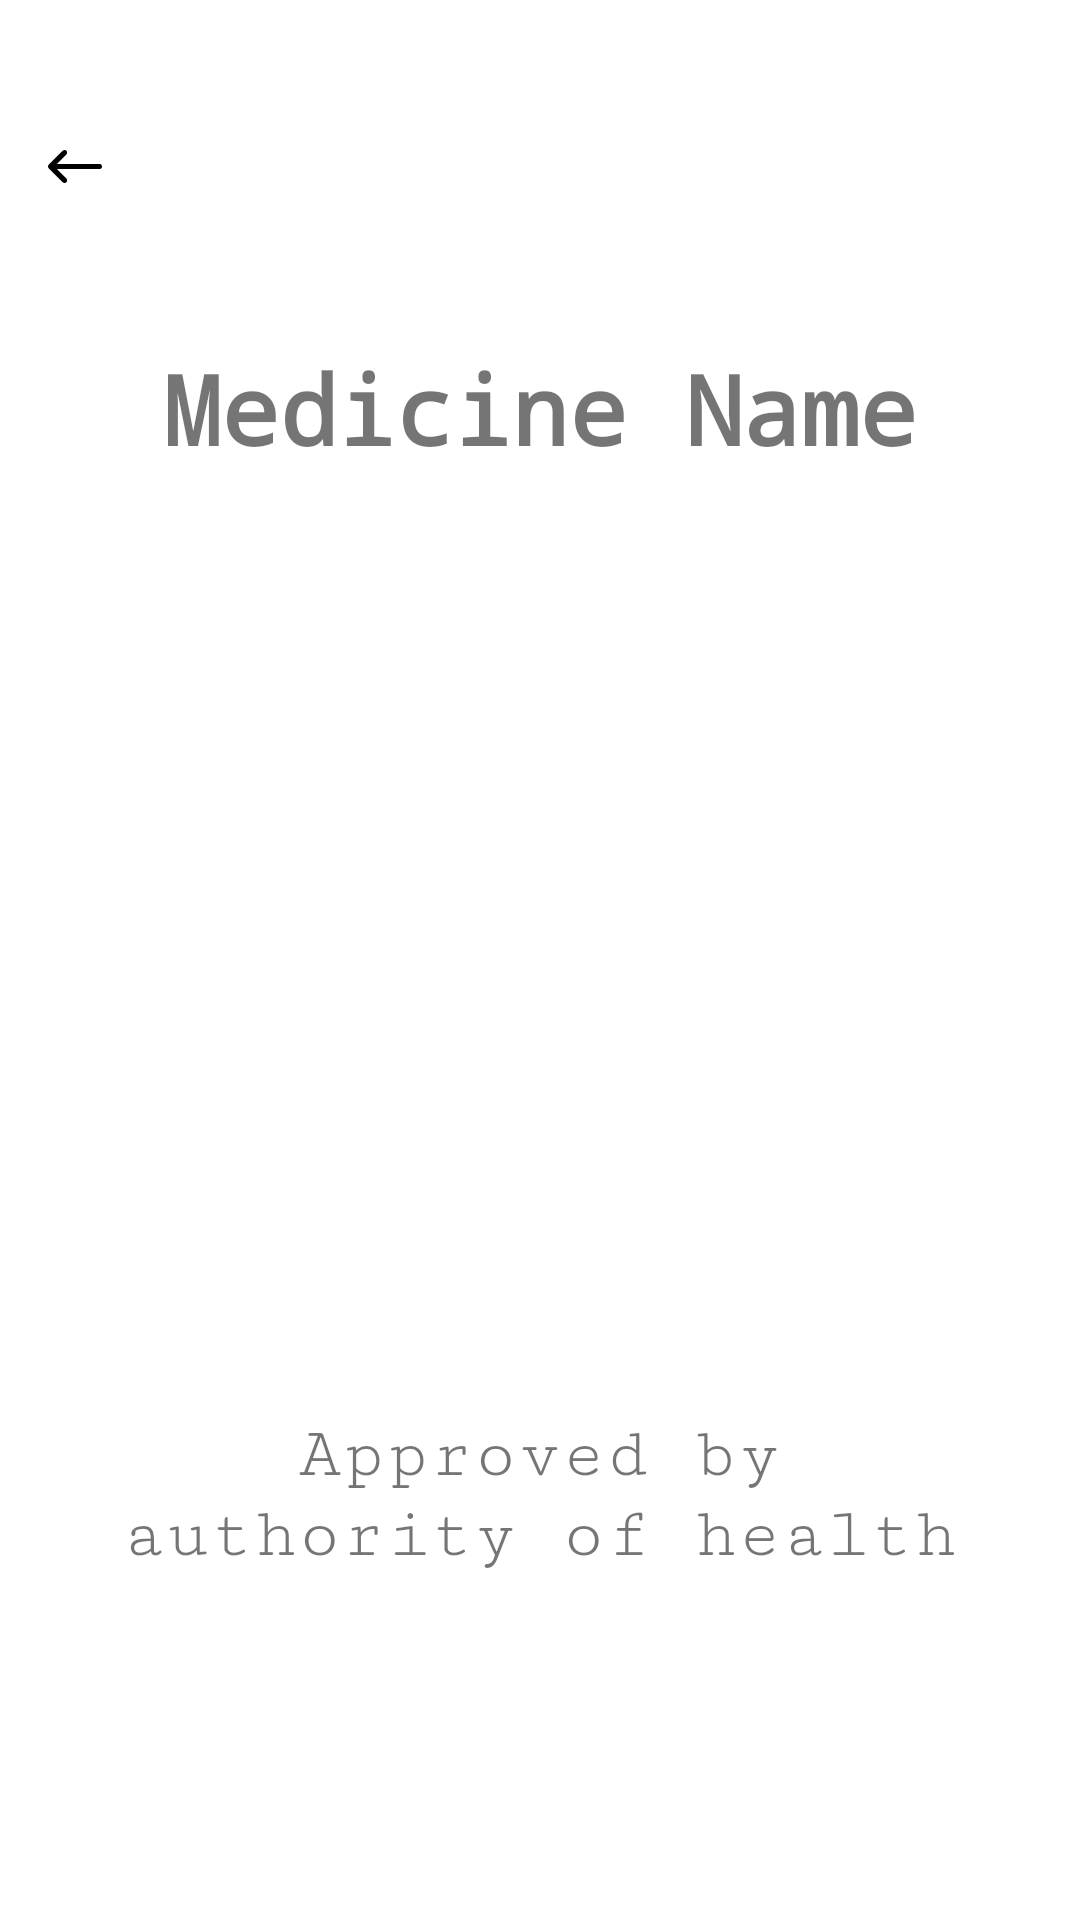

Named icons in this screenshot (1080×1920) and their bounding boxes, (x1, y1, x2, y2):
back: (48, 150, 102, 183)
